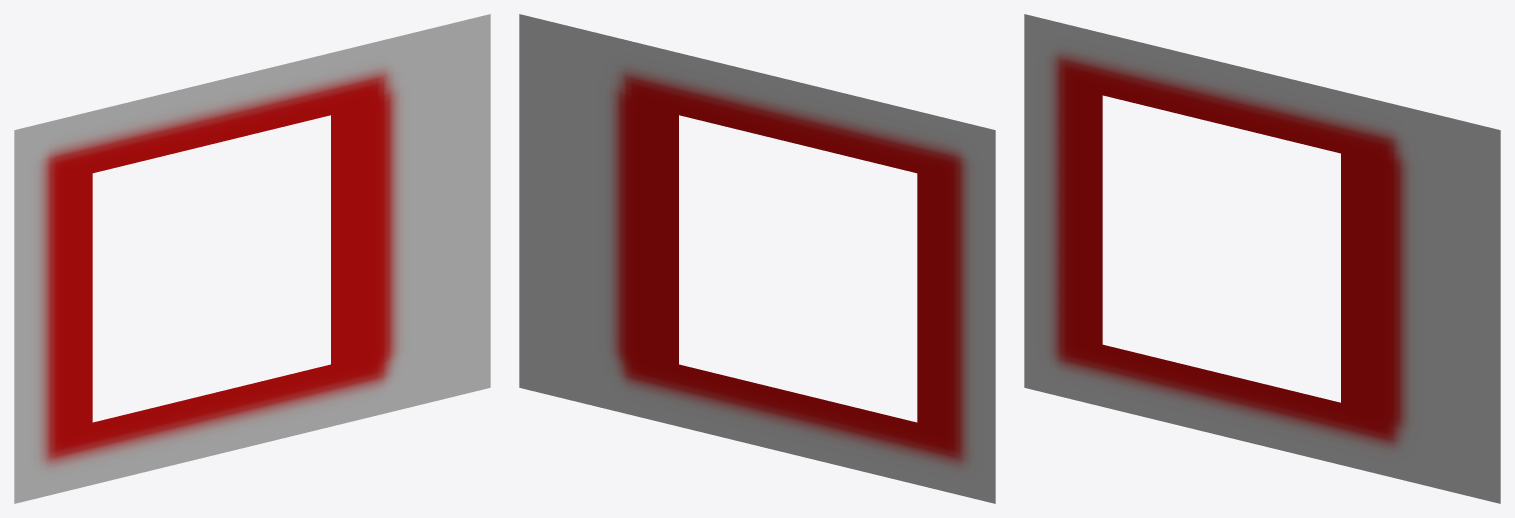
The model's file is wall_window_400x300_10.fbx.
3 renders of one model, left to right at view 1: azimuth 30°, elevation 25°; view 2: azimuth 150°, elevation 25°; view 3: azimuth 330°, elevation 25°, orthographic.
Visible parts, largest first — view 1: wall_window_400x300_10; view 2: wall_window_400x300_10; view 3: wall_window_400x300_10.
Boxes of the visible parts, x1=… form: wall_window_400x300_10: x1=14, y1=14, x2=490, y2=503; wall_window_400x300_10: x1=519, y1=14, x2=995, y2=503; wall_window_400x300_10: x1=1024, y1=14, x2=1500, y2=503.
Bounding box in the file's own units: 4 × 3 × 0.
